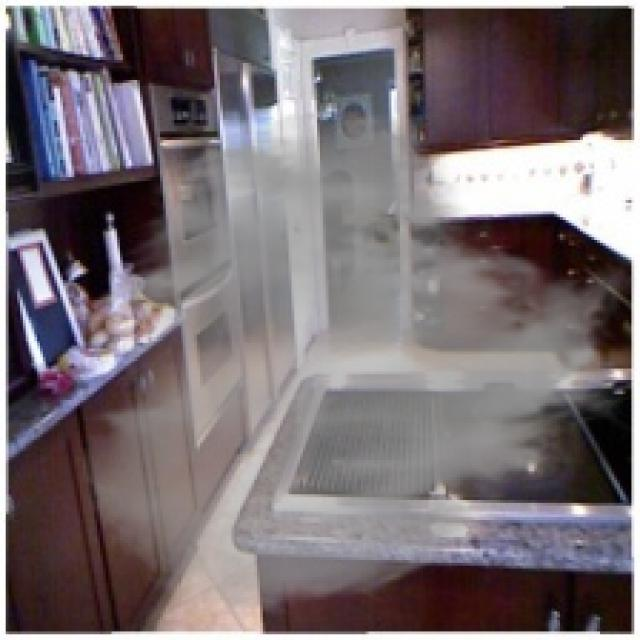smoke: (77, 106, 637, 623)
